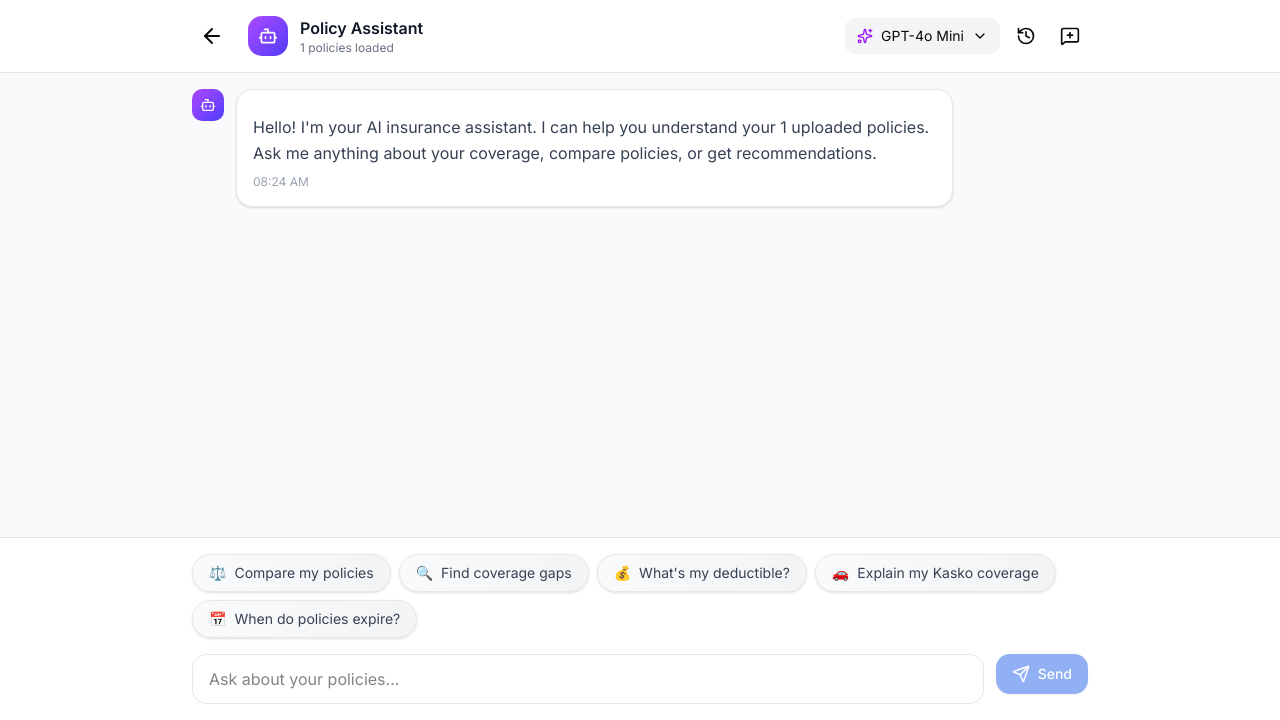
Test: PolicyChat › provider selection › opens provider dropdown on click
The width and height of the screenshot is (1280, 720).
What coordinates should you click on to do the following:
click the button with test id "provider-selector"
I would click on:
 (923, 36)
Its box is x1=845 y1=18 x2=1000 y2=54.
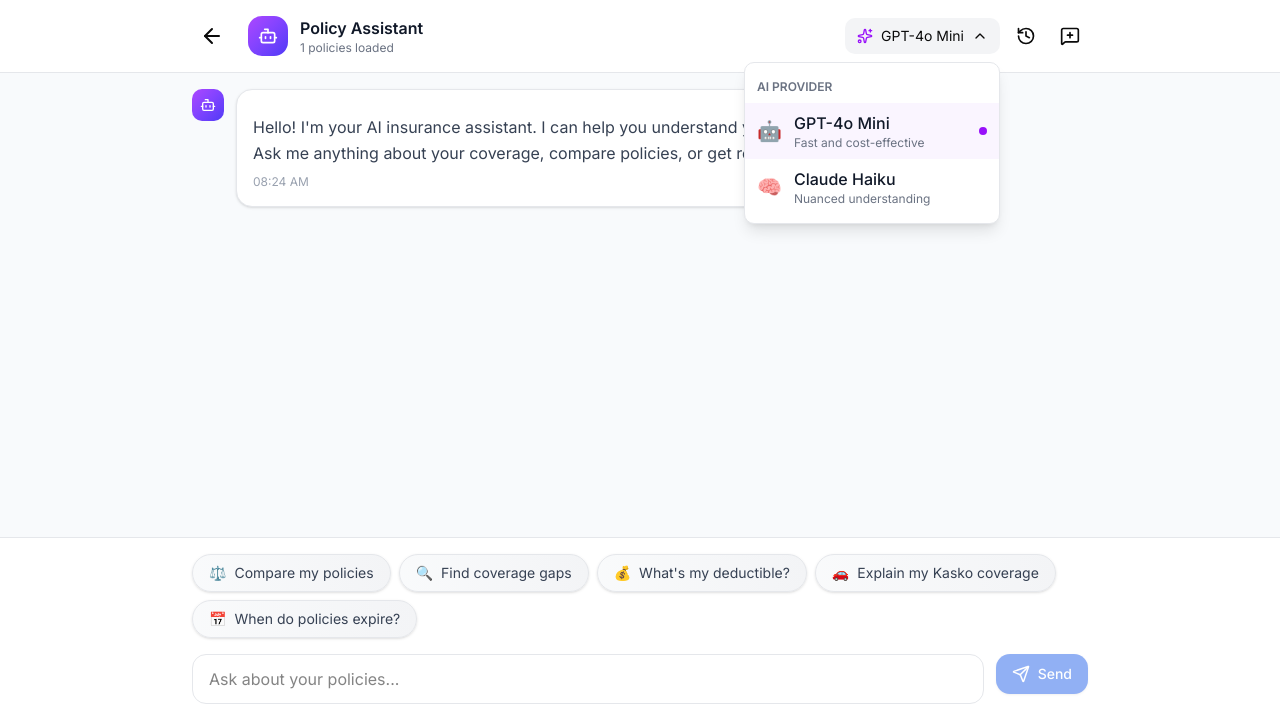
Now the text "AI Provider" is shown, box x1=757 y1=79 x2=832 y2=94
